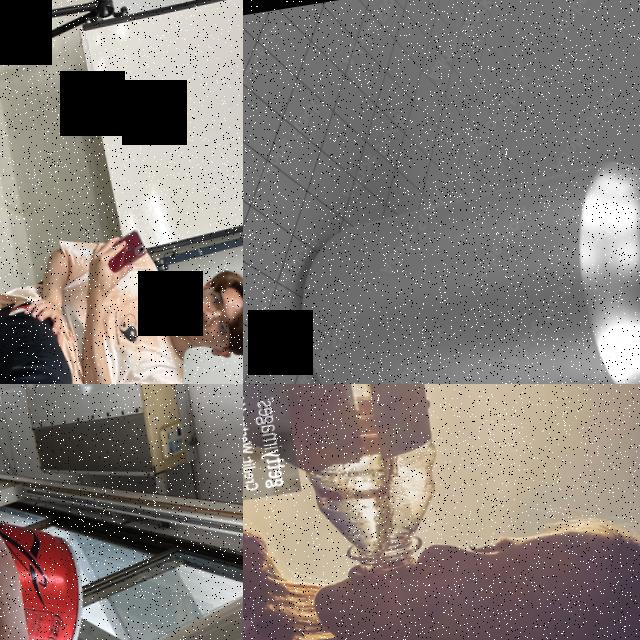bottle: (268, 384, 460, 584)
can: (283, 147, 640, 384), (0, 429, 97, 640)
